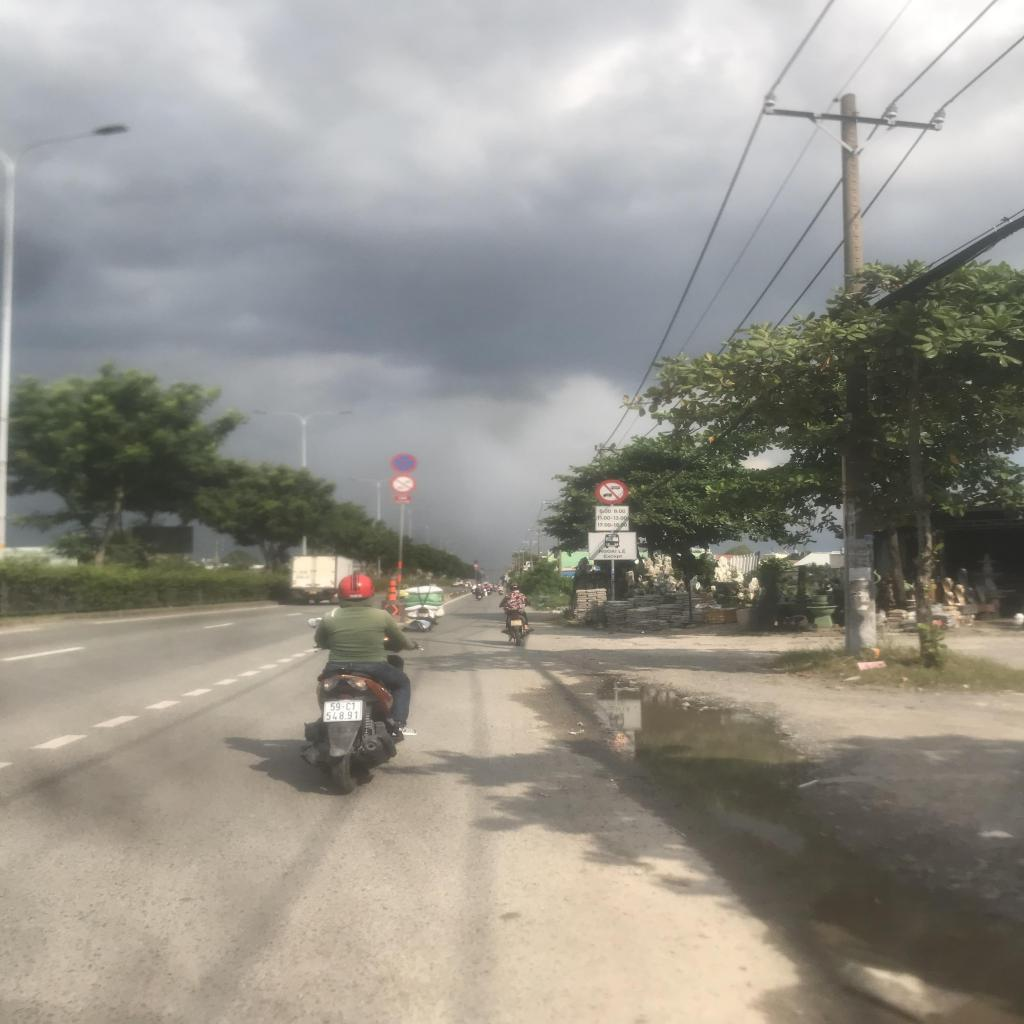cam_dung_xe_va_do_xe: (391, 454, 416, 473)
cam_o_to_tai_va_xe_khach: (595, 479, 628, 504)
cam_xe_2_banh_va_xe_3_banh_co_dong_co: (390, 474, 417, 494)
khac: (588, 532, 636, 560), (596, 506, 628, 530)
